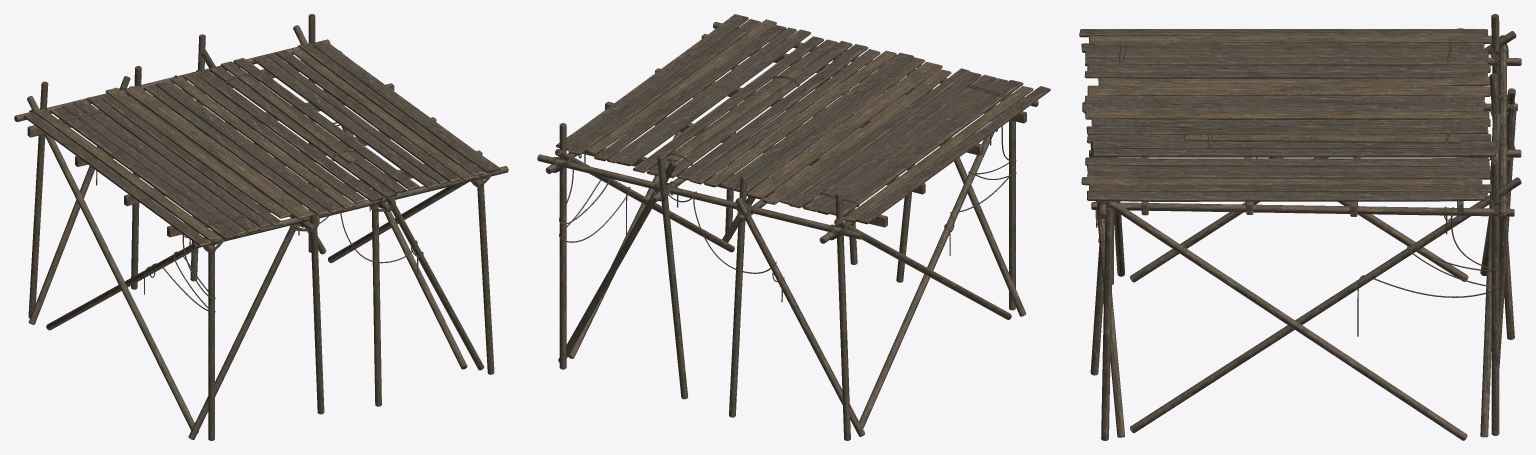
The model's file is SM_Construction_v2_9x9_01.fbx.
3 views of the same model, side by side, from view 1: azimuth 30°, elevation 25°; view 2: azimuth 150°, elevation 25°; view 3: azimuth 270°, elevation 25° (orthographic). The views are drawn at different scales.
Visible parts, largest first — view 1: SM_Construction_v2_9x9_01_LOD0; view 2: SM_Construction_v2_9x9_01_LOD0; view 3: SM_Construction_v2_9x9_01_LOD0.
Part boxes in pixels (x1=…): SM_Construction_v2_9x9_01_LOD0: x1=14, y1=14, x2=508, y2=440; SM_Construction_v2_9x9_01_LOD0: x1=537, y1=14, x2=1050, y2=440; SM_Construction_v2_9x9_01_LOD0: x1=1079, y1=14, x2=1521, y2=440.
Size of the model in its own units: 933 by 962 by 660.
Materials: 1 (1 with a texture image).
